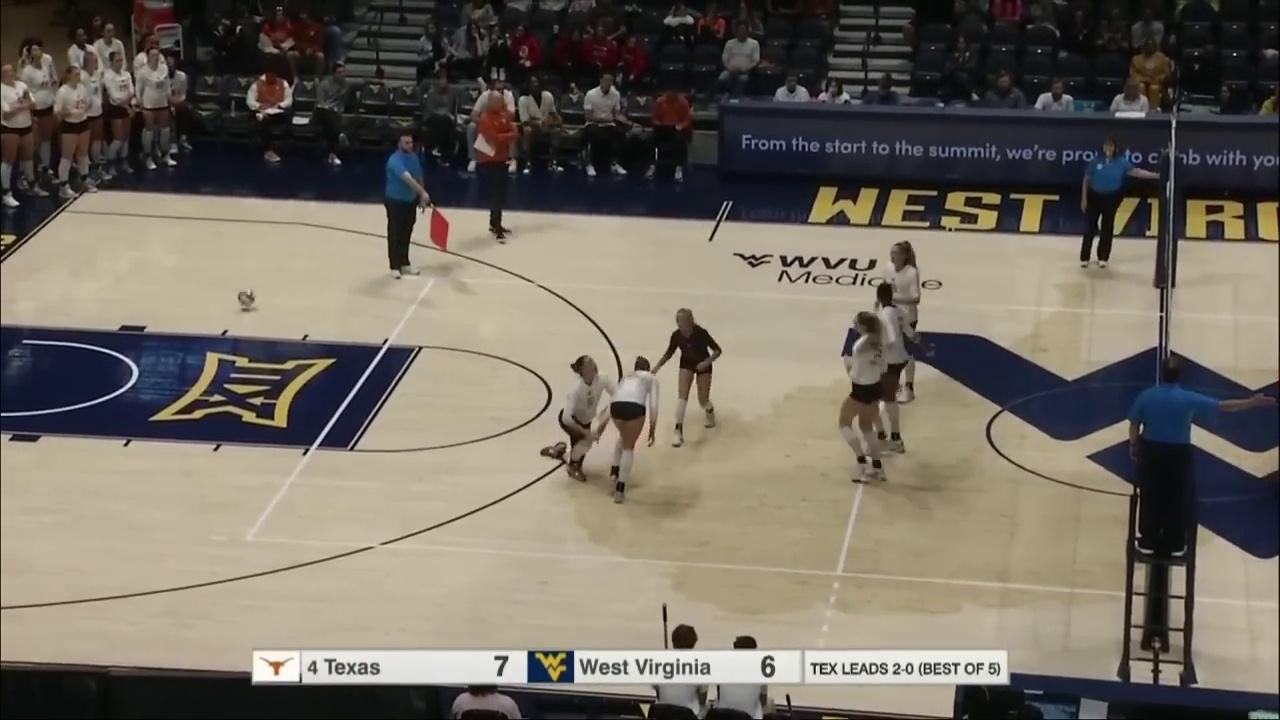player: (660, 303, 724, 450), (600, 353, 659, 504), (544, 349, 612, 480), (842, 315, 894, 486), (869, 280, 918, 455), (877, 240, 926, 404)
refree: (1125, 361, 1227, 561), (1080, 133, 1147, 268), (377, 135, 430, 281)
